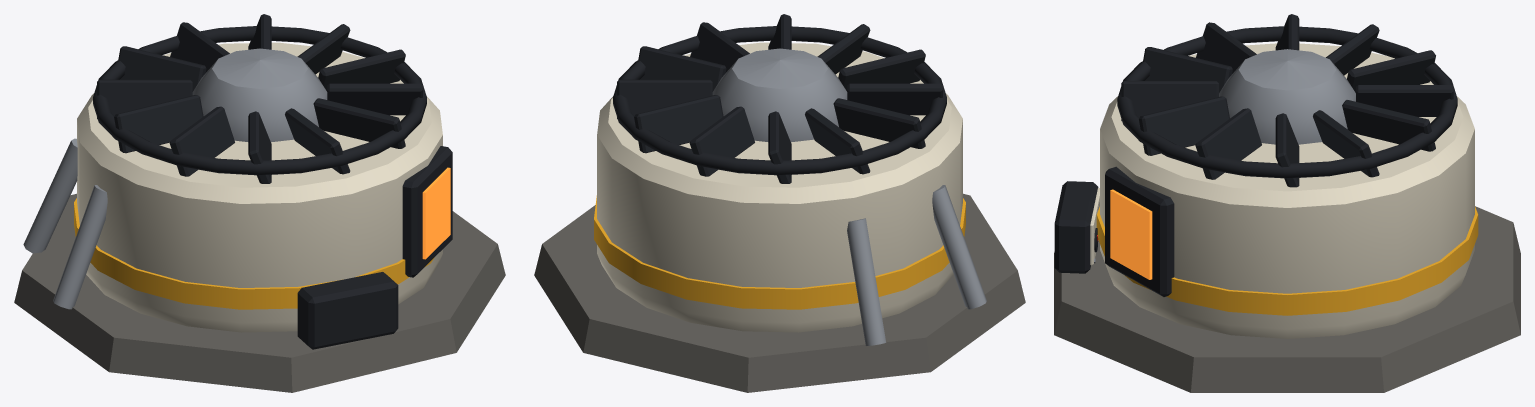
Rendered from generator.glb.
3 views of the same model, side by side, from view 1: azimuth 30°, elevation 25°; view 2: azimuth 150°, elevation 25°; view 3: azimuth 270°, elevation 25° (orthographic).
Visible parts, largest first — view 1: generator_mesh; view 2: generator_mesh; view 3: generator_mesh.
Boxes of the visible parts, x1,y1,x2,y2 form: generator_mesh: (14,14,505,392); generator_mesh: (534,14,1025,392); generator_mesh: (1054,14,1520,392).
Bounding box in the file's own units: 2.92 × 1.58 × 2.86.
